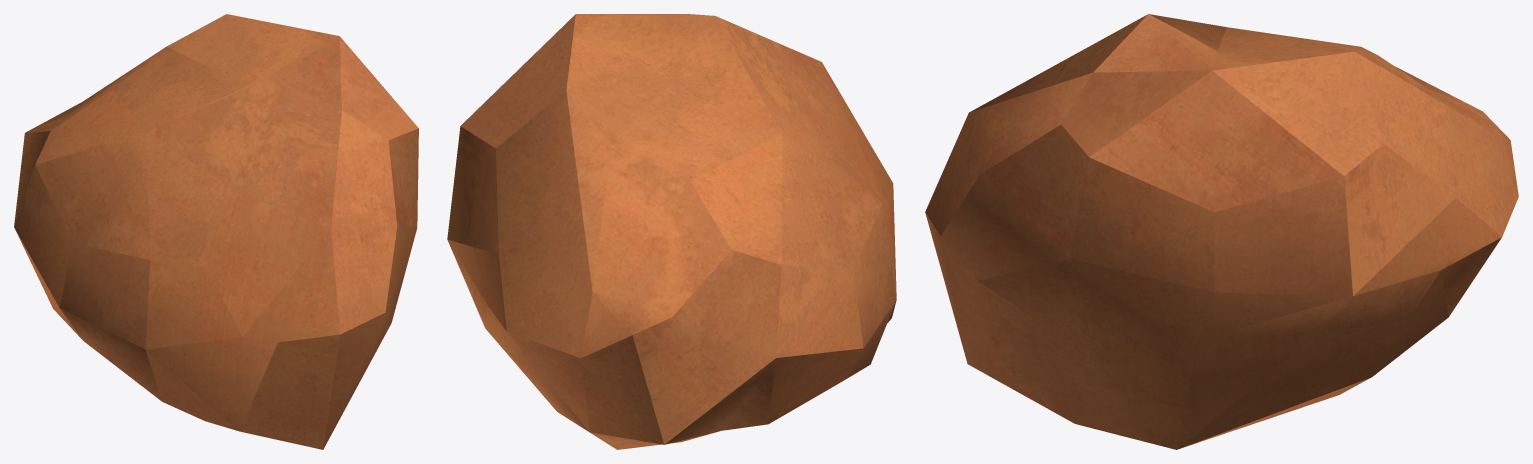
File: boulder-flat-bottom.glb
3 renders of one model, left to right at view 1: azimuth 30°, elevation 25°; view 2: azimuth 150°, elevation 25°; view 3: azimuth 270°, elevation 25°, orthographic. The views are drawn at different scales.
Parts seen in each view (by area): view 1: Icosahedron_n3d; view 2: Icosahedron_n3d; view 3: Icosahedron_n3d.
Part boxes in pixels (left/top/right/bottom): Icosahedron_n3d: left=14, top=14, right=418, bottom=449; Icosahedron_n3d: left=447, top=14, right=896, bottom=449; Icosahedron_n3d: left=925, top=14, right=1518, bottom=449.
Size of the model in its own units: 0.7065 by 0.6906 by 0.9517.
Materials: 1 (1 with a texture image).
